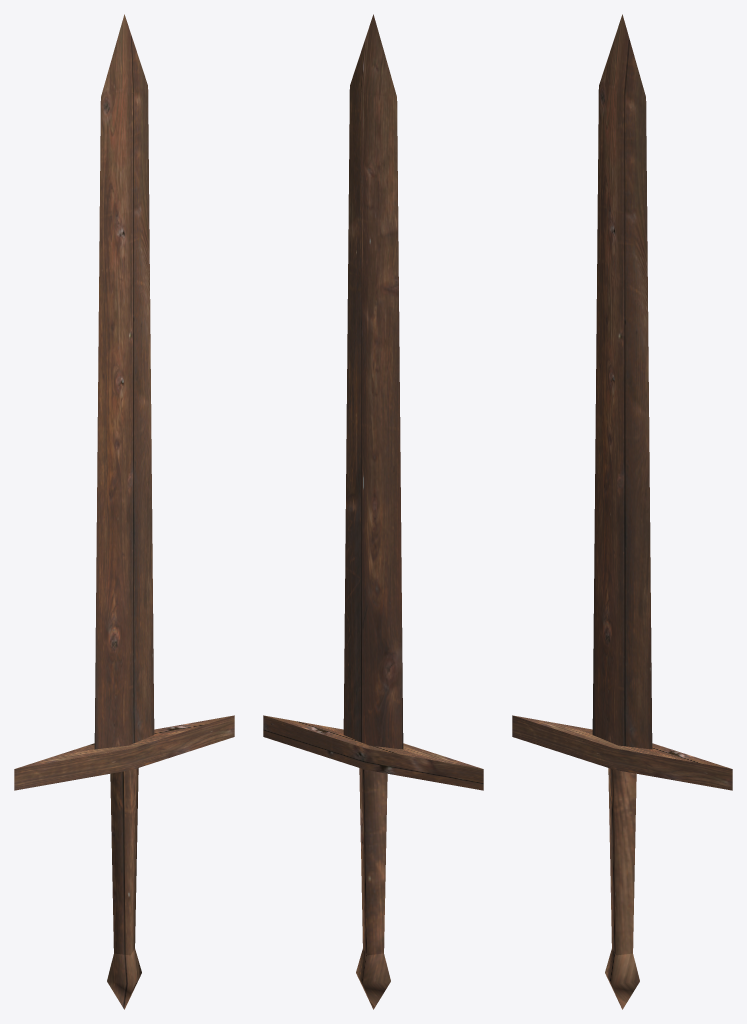
Rendered from sord.obj.
The picture shows the model from 3 angles, left to right: view 1: azimuth 30°, elevation 25°; view 2: azimuth 150°, elevation 25°; view 3: azimuth 330°, elevation 25°; orthographic projection.
Parts seen in each view (by area): view 1: Cube.006; view 2: Cube.006; view 3: Cube.006.
Boxes of the visible parts, bbox=[...] form: Cube.006: bbox=[14, 14, 234, 1009]; Cube.006: bbox=[263, 14, 483, 1009]; Cube.006: bbox=[512, 14, 732, 1009].
Size of the model in its own units: 0.3157 by 1.36 by 0.0505.
